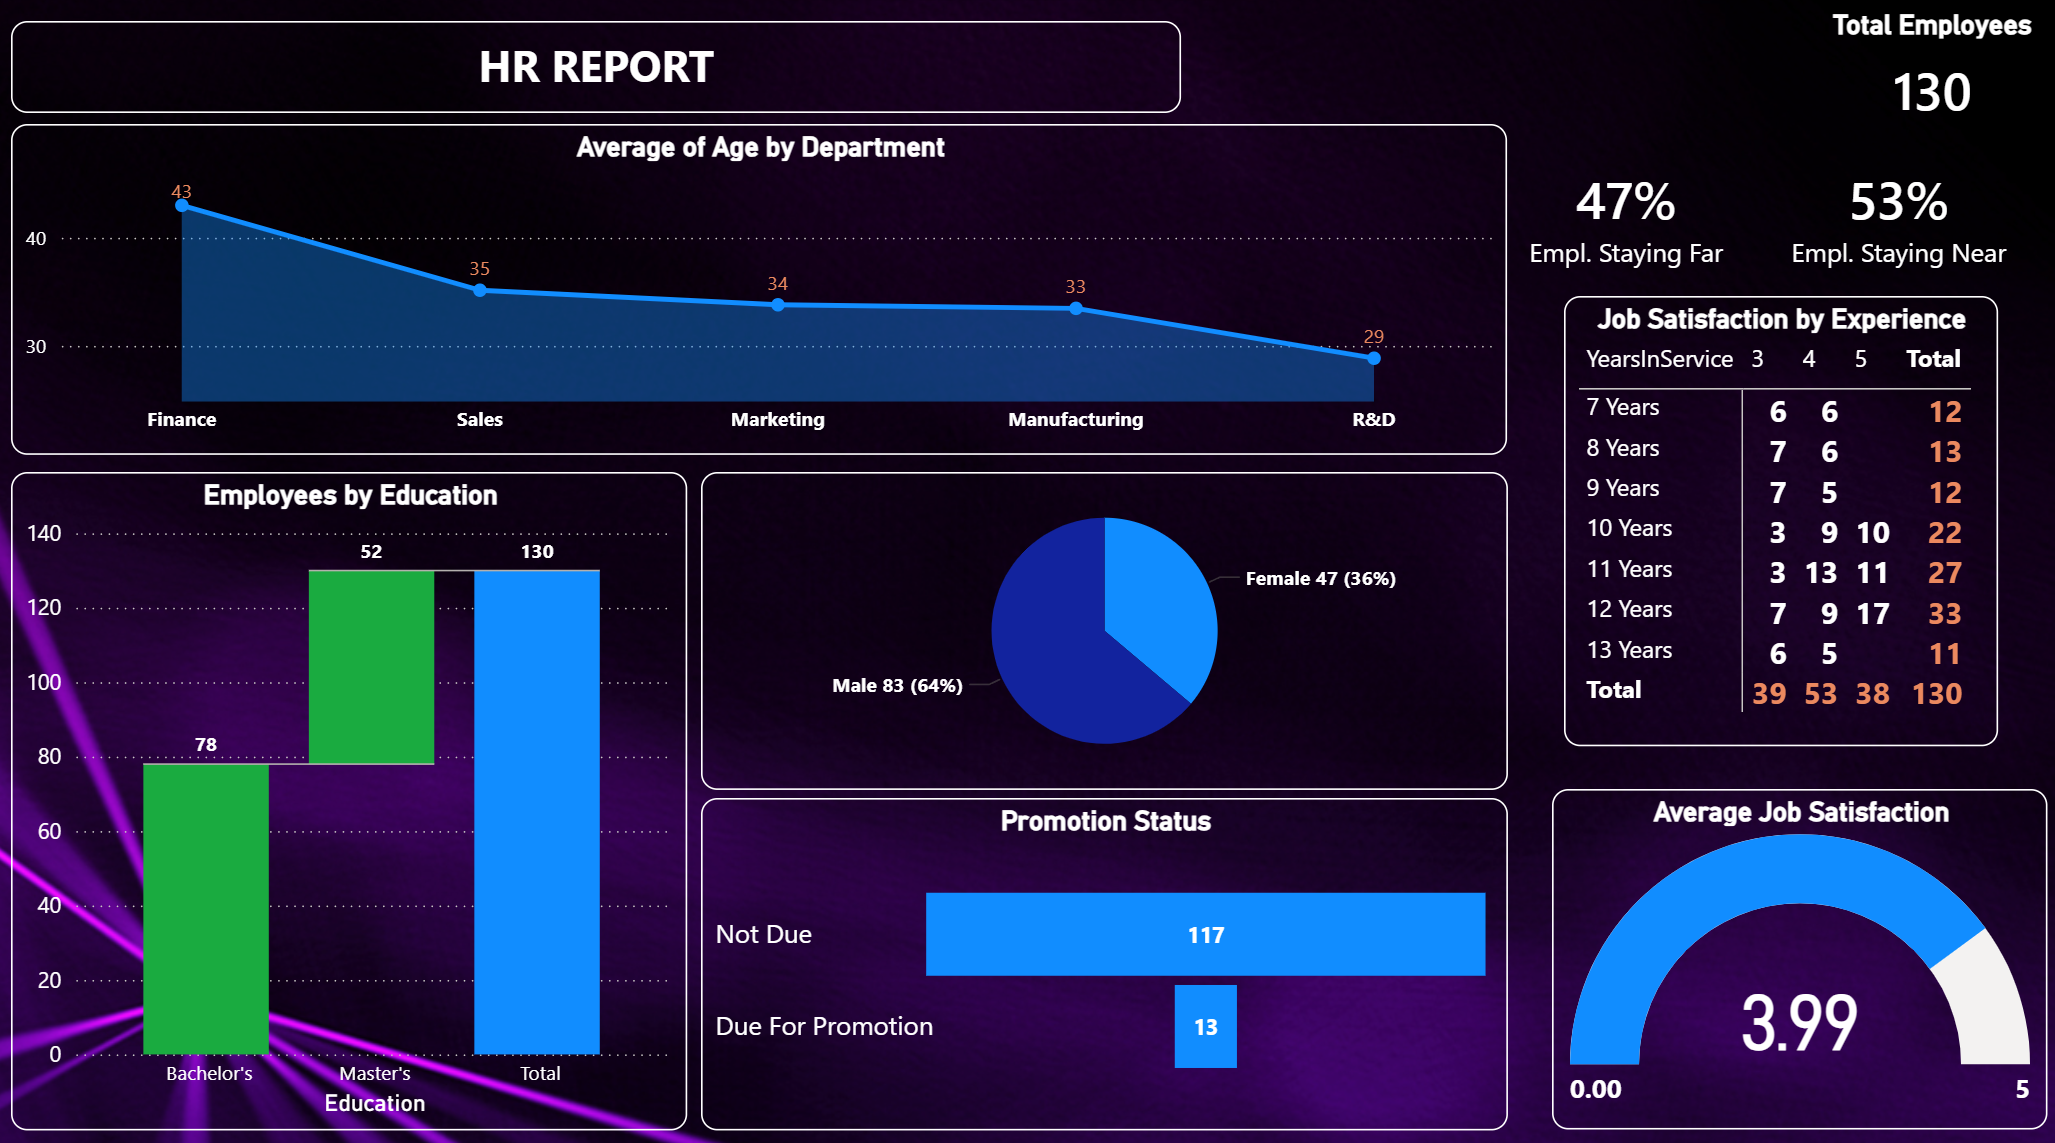

The page's visual inventory and layout, read from the dashboard file:
{"tool":"powerbi","page":{"name":"HR","canvas":[1280,720],"ordinal":1},"visuals":[{"type":"textbox","box":[11,15,725.3,57.2],"z":0},{"type":"areaChart","fields":{"Category":["HR.Department"],"Y":["Avg(HR.Age)"]},"box":[11.3,78.9,927.5,205],"z":1000},{"type":"pieChart","fields":{"Series":["HR.Gender"],"Y":["HR.TotalEmployees"]},"box":[438.6,294.1,500.1,196.8],"z":2000},{"type":"cardVisual","title":"Total Employees","fields":{"Data":["HR.TotalEmployees"]},"box":[1130.3,6.8,143,77.7],"z":3000},{"type":"cardVisual","fields":{"Data":["HR.%DistanceFar"]},"box":[916.4,84.4,191.4,101.3],"z":4000},{"type":"cardVisual","fields":{"Data":["HR.%DIstanceNear"]},"box":[1081.9,84.4,198.1,101.3],"z":5000},{"type":"pivotTable","title":"Job Satisfaction by Experience","fields":{"Columns":["HR.JobSatisfation"],"Rows":["HR.YearsInService"],"Values":["HR.TotalEmployees"]},"box":[973.6,185.5,268.5,278.8],"z":6000},{"type":"gauge","title":"Average Job Satisfaction","fields":{"MaxValue":["Max(HR.JobSatisfation)"],"Y":["HR.AverageJobSatisfaction"]},"box":[965.9,490.8,307.3,210.5],"z":7000},{"type":"waterfallChart","title":"Employees by Education","fields":{"Category":["HR.Education"],"Y":["HR.TotalEmployees"]},"box":[11.3,294.1,419.2,407.9],"z":8000},{"type":"funnel","title":"Promotion Status","fields":{"Category":["HR.PromotionStatus"],"Y":["HR.TotalEmployees"]},"box":[438.6,496,500.1,206],"z":9000}]}

Visuals, with their boxes in screenshot pixels (x1, y1, x2, y2), scaled from the page's 1280x720 canvas onto the 2055x1143 screenshot:
textbox: [left=18, top=24, right=1182, bottom=115]
areaChart - HR.Department x Avg(HR.Age): [left=18, top=125, right=1507, bottom=451]
pieChart - HR.Gender x HR.TotalEmployees: [left=704, top=467, right=1507, bottom=779]
"Total Employees" cardVisual: [left=1815, top=11, right=2044, bottom=134]
cardVisual - HR.%DistanceFar: [left=1471, top=134, right=1779, bottom=295]
cardVisual - HR.%DIstanceNear: [left=1737, top=134, right=2054, bottom=295]
"Job Satisfaction by Experience" pivotTable: [left=1563, top=294, right=1994, bottom=737]
"Average Job Satisfaction" gauge: [left=1551, top=779, right=2044, bottom=1113]
"Employees by Education" waterfallChart: [left=18, top=467, right=691, bottom=1114]
"Promotion Status" funnel: [left=704, top=787, right=1507, bottom=1114]
